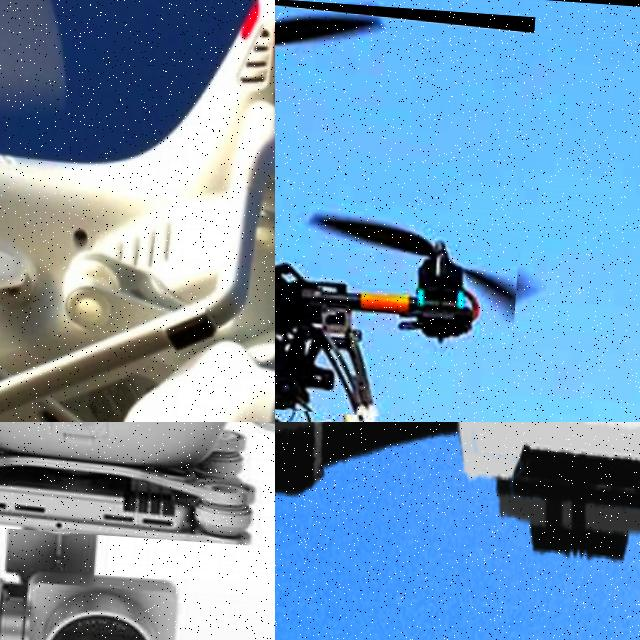drone: (0, 0, 275, 422), (275, 0, 535, 422), (275, 422, 640, 626), (0, 422, 275, 558)
